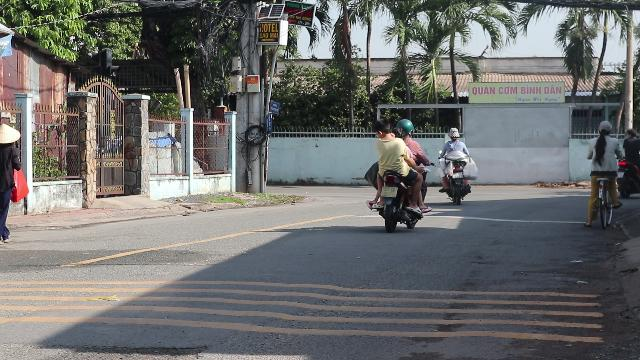helmet: (394, 118, 414, 138)
licenseplate: (381, 186, 397, 196)
motorcyclist: (364, 116, 430, 231)
nohelmet: (372, 118, 393, 138)
